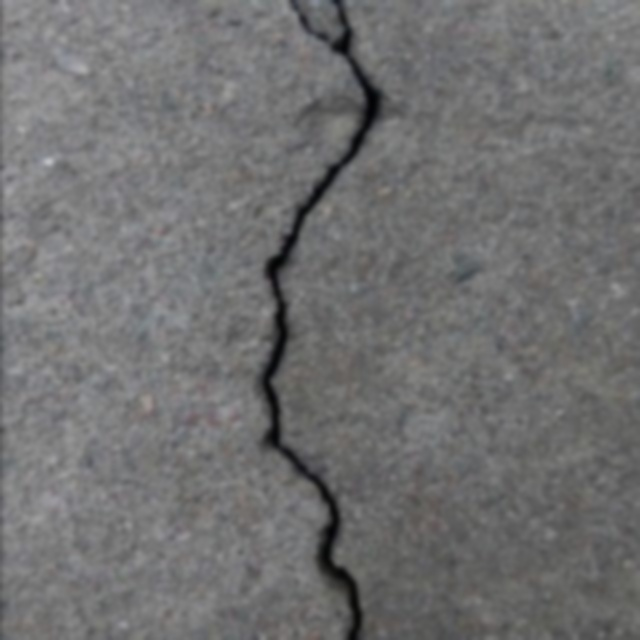SurfaceCrack: (232, 0, 416, 640)
